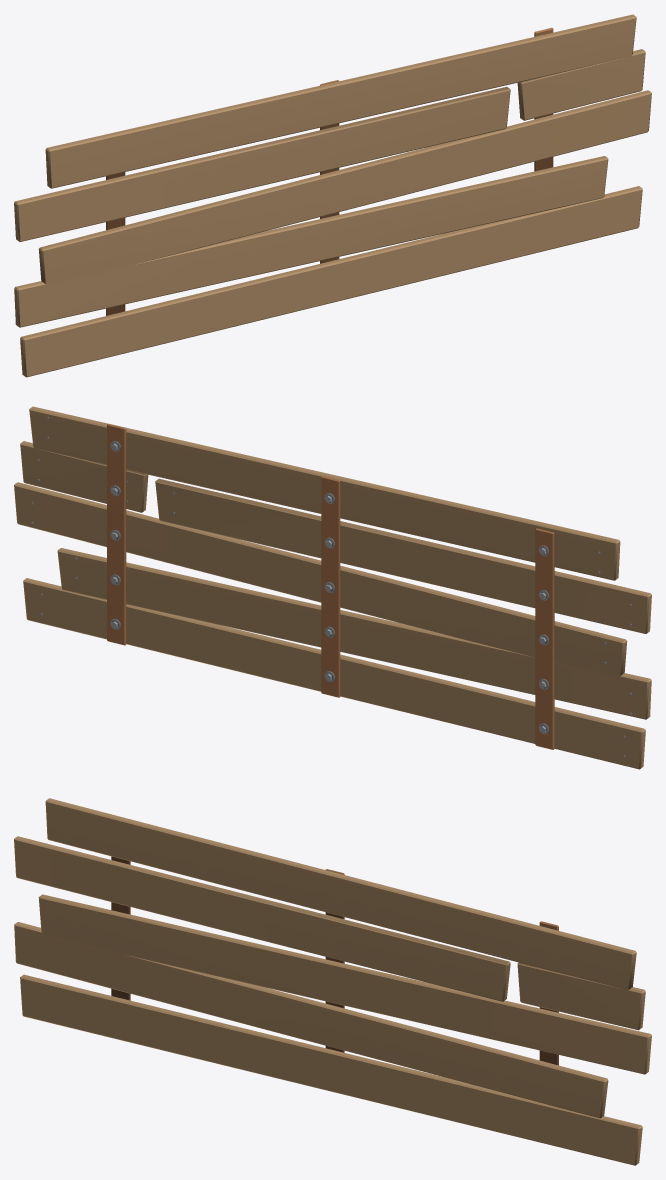
File: arm_planks.glb
The picture shows the model from 3 angles, top to bottom: view 1: azimuth 30°, elevation 25°; view 2: azimuth 150°, elevation 25°; view 3: azimuth 330°, elevation 25°; orthographic projection.
Parts seen in each view (by area): view 1: PART; view 2: PART; view 3: PART.
Boxes of the visible parts, bbox=[...] form: PART: bbox=[14, 14, 651, 377]; PART: bbox=[14, 406, 651, 769]; PART: bbox=[14, 798, 651, 1165].
Bounding box in the file's own units: 2.02 × 0.6742 × 0.041.
